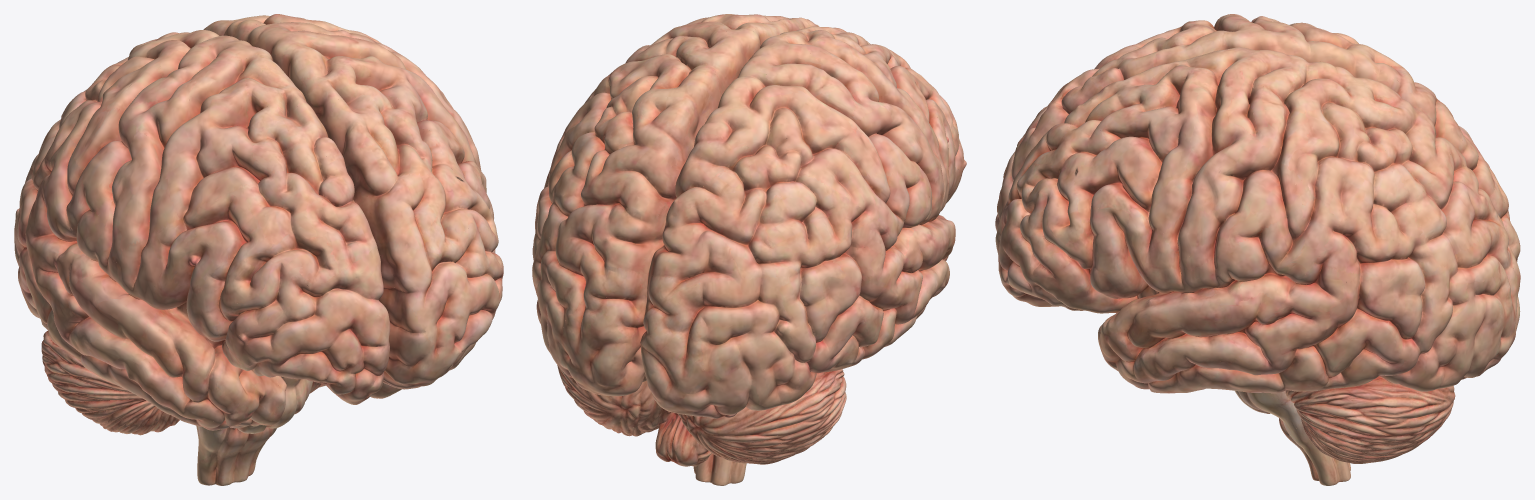
Rendered from human-brain.glb.
3 renders of one model, left to right at view 1: azimuth 30°, elevation 25°; view 2: azimuth 150°, elevation 25°; view 3: azimuth 270°, elevation 25°, orthographic. The views are drawn at different scales.
Parts seen in each view (by area): view 1: human-brain; view 2: human-brain; view 3: human-brain.
Boxes of the visible parts, x1,y1,x2,y2 form: human-brain: (14, 14, 503, 485); human-brain: (532, 14, 966, 485); human-brain: (995, 14, 1520, 485).
Bounding box in the file's own units: 0.1375 × 0.1549 × 0.17.
1 material, 1 textured.
